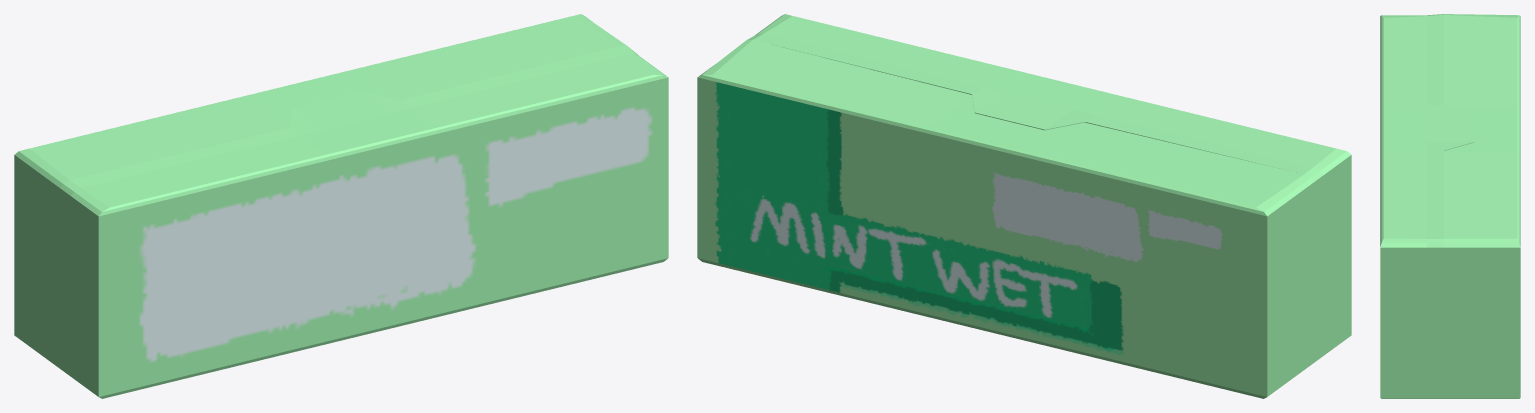
Rendered from Snack.PowderedDry.s.fbx.
3 views of the same model, side by side, from view 1: azimuth 30°, elevation 25°; view 2: azimuth 150°, elevation 25°; view 3: azimuth 270°, elevation 25° (orthographic). The views are drawn at different scales.
Visible parts, largest first — view 1: Snack.PowderedDry.s; view 2: Snack.PowderedDry.s; view 3: Snack.PowderedDry.s.
Boxes of the visible parts, x1=… form: Snack.PowderedDry.s: x1=14, y1=14, x2=668, y2=398; Snack.PowderedDry.s: x1=697, y1=14, x2=1351, y2=398; Snack.PowderedDry.s: x1=1380, y1=14, x2=1520, y2=398.
Bounding box in the file's own units: 61.22 × 19.64 × 15.68.
